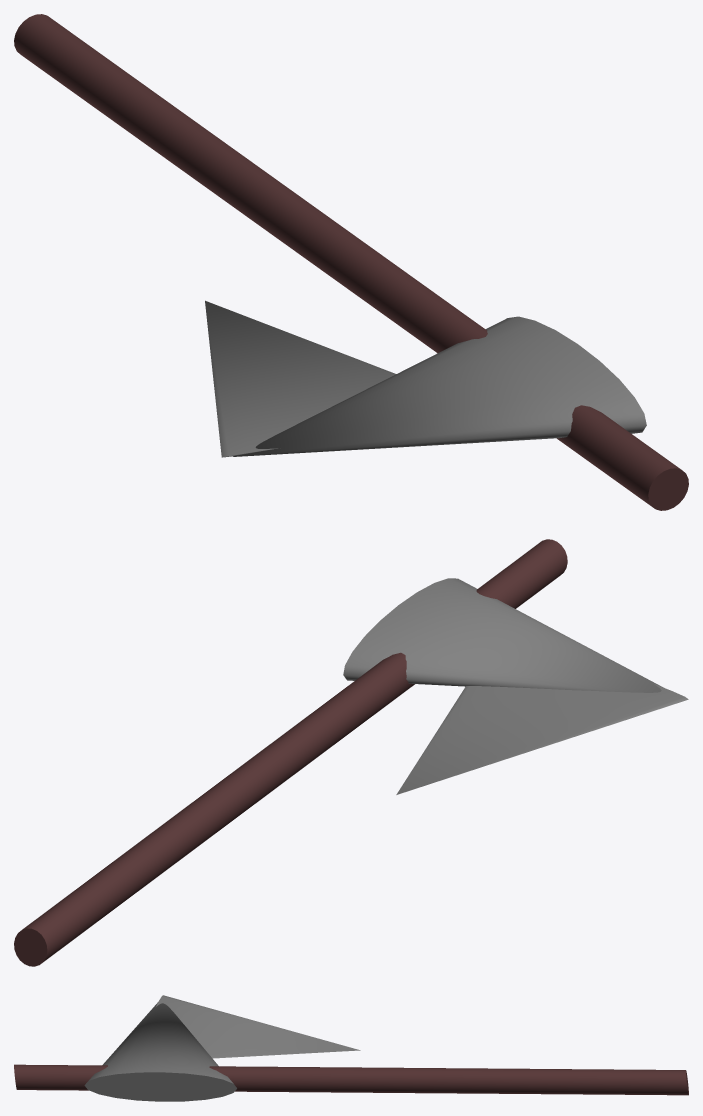
Rendered from Sabrina_Axe.fbx.
3 views of the same model, one above another, from view 1: azimuth 30°, elevation 25°; view 2: azimuth 150°, elevation 25°; view 3: azimuth 270°, elevation 25° (orthographic). The views are drawn at different scales.
Visible parts, largest first — view 1: polySurface18; view 2: polySurface18; view 3: polySurface18.
Boxes of the visible parts, x1,y1,x2,y2 form: polySurface18: (14, 14, 688, 510); polySurface18: (14, 539, 688, 966); polySurface18: (14, 995, 688, 1101).
Size of the model in its own units: 0.4617 by 0.0803 by 1.43.
